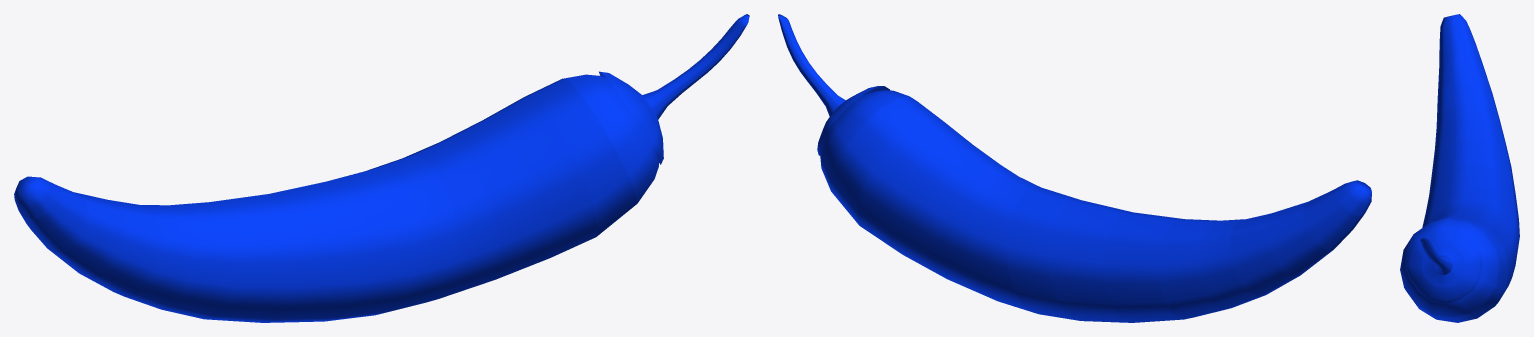
The model's file is SM_FP_RedPepper.fbx.
3 views of the same model, side by side, from view 1: azimuth 30°, elevation 25°; view 2: azimuth 150°, elevation 25°; view 3: azimuth 270°, elevation 25° (orthographic). The views are drawn at different scales.
Parts seen in each view (by area): view 1: SM_FP_RedPepper; view 2: SM_FP_RedPepper; view 3: SM_FP_RedPepper.
Part boxes in pixels (<box>): SM_FP_RedPepper: <box>14,14,749,322</box>; SM_FP_RedPepper: <box>778,14,1371,322</box>; SM_FP_RedPepper: <box>1400,14,1519,322</box>.
Bounding box in the file's own units: 52.86 × 16.61 × 11.38.
